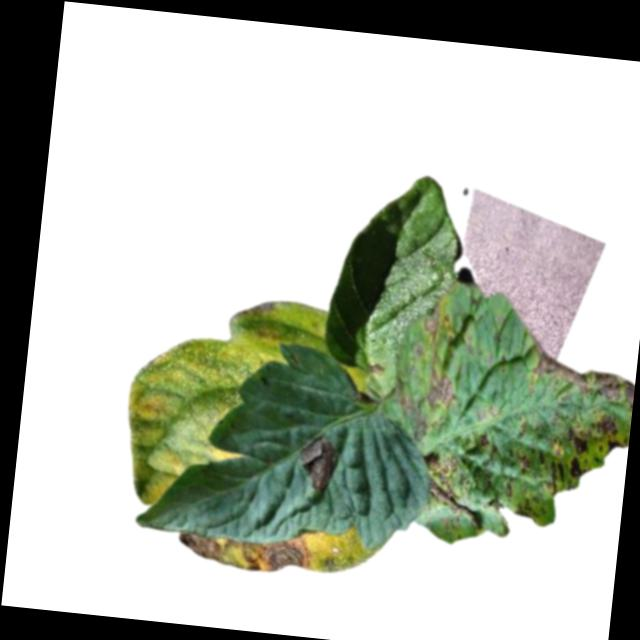Early_blight: (176, 524, 315, 580), (529, 339, 637, 409), (422, 453, 491, 530), (293, 432, 343, 496), (588, 410, 631, 456), (563, 425, 592, 483), (533, 448, 566, 498), (422, 367, 457, 411), (421, 301, 451, 346), (512, 453, 532, 479), (514, 502, 535, 521), (477, 433, 494, 450), (370, 364, 386, 379)
